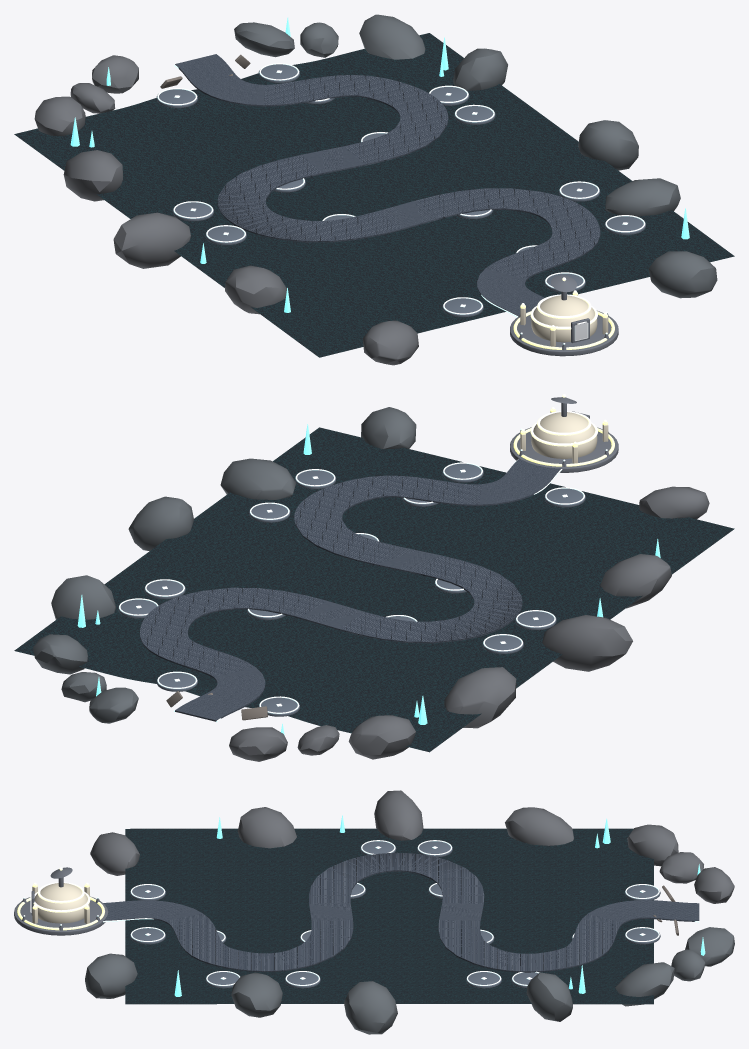
File: arena.glb
3 views of the same model, one above another, from view 1: azimuth 30°, elevation 25°; view 2: azimuth 150°, elevation 25°; view 3: azimuth 270°, elevation 25° (orthographic). The views are drawn at different scales.
Visible parts, largest first — view 1: Ground, Path, Rock_8, Rock_7, Rock_2, Rock_5, Rock_9, Rock_1, Rock_4, Rock_6, Rock_3, BaseDome (+14 smaller); view 2: Ground, Path, Rock_8, Rock_2, Rock_5, Rock_4, Rock_9, Rock_0, Rock_3, BaseDome, Rock_7, Rock_6 (+13 smaller); view 3: Ground, Path, Rock_9, Rock_2, Rock_8, Rock_4, Rock_7, Rock_5, Rock_3, Rock_6, Rock_1, BaseDome (+15 smaller).
Part boxes in pixels (x1,y1,x2,y2): Ground: (14, 33, 734, 357); Path: (175, 54, 600, 316); Rock_8: (113, 212, 190, 268); Rock_7: (648, 251, 717, 298); Rock_2: (63, 150, 123, 201); Rock_5: (605, 178, 680, 216); Rock_9: (578, 120, 638, 170); Rock_1: (359, 14, 425, 59); Rock_4: (225, 265, 286, 314); Rock_6: (362, 320, 418, 365); Rock_3: (453, 48, 507, 90); BaseDome: (531, 295, 597, 342); Ground: (14, 427, 734, 752); Path: (140, 458, 561, 721); Rock_8: (542, 615, 632, 671); Rock_2: (444, 667, 516, 728); Rock_5: (220, 458, 295, 499); Rock_4: (600, 554, 671, 608); Rock_9: (128, 496, 193, 550); Rock_0: (348, 715, 415, 759); Rock_3: (51, 575, 116, 619); BaseDome: (531, 412, 597, 458); Rock_7: (361, 407, 416, 449); Rock_6: (639, 486, 709, 519); Ground: (125, 828, 653, 1004); Path: (103, 852, 699, 972); Rock_9: (344, 981, 397, 1034); Rock_2: (505, 807, 573, 845); Rock_8: (374, 790, 423, 840); Rock_4: (237, 807, 296, 848); Rock_7: (85, 953, 137, 998); Rock_5: (231, 972, 282, 1017); Rock_3: (526, 972, 572, 1021); Rock_6: (90, 832, 139, 875); Rock_1: (615, 962, 674, 1006); BaseDome: (34, 883, 89, 923).
Size of the model in its own units: 26.84 by 4.01 by 38.19.
16 materials, 2 textured.
